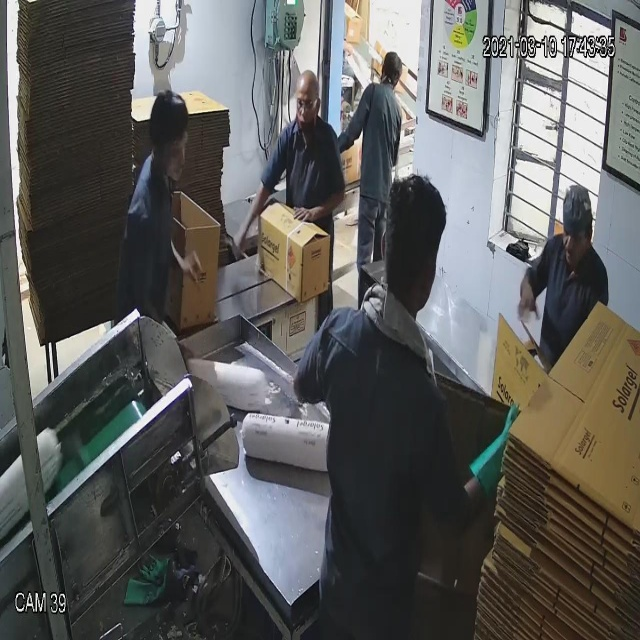Sin_guantes: (222, 173, 280, 268), (288, 181, 352, 237), (162, 228, 213, 297), (513, 256, 545, 337)
